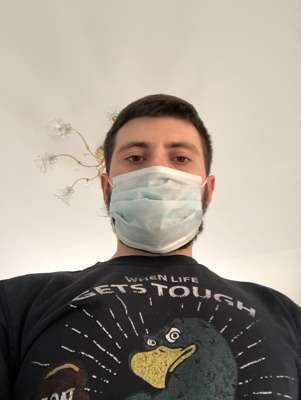with_mask: (109, 134, 206, 253)
